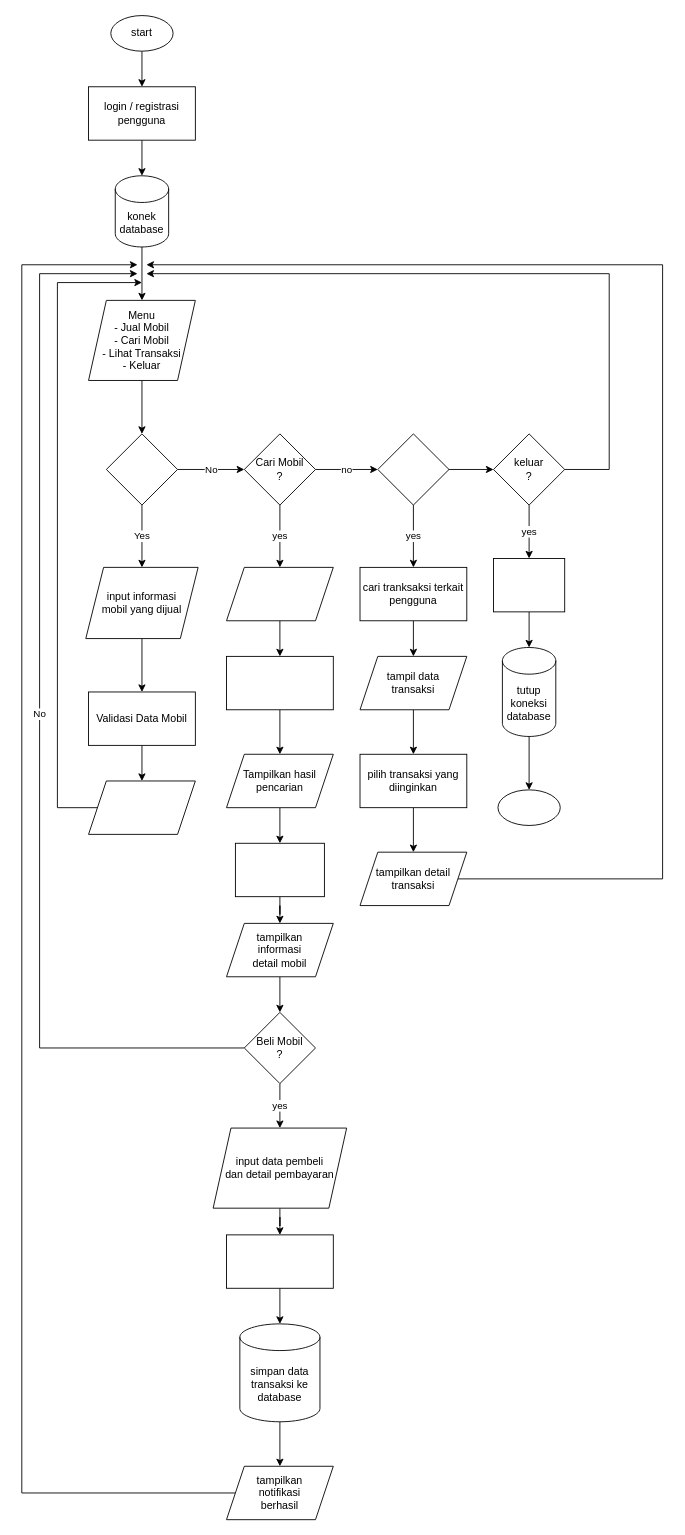
Some shapes in this 685 by 1535 pixel diagram are drawn without their labels. Each missing label, with the centre of its shape:
"cari mobil berdasarkan kriteria" goes at point 279,682.
"end" goes at point 528,807.
"input kriteria mobil" goes at point 279,593.
"Jual Mobil ?" goes at point 141,469.
"lihat transkasi ?" goes at point 413,469.
"logout pengguna" goes at point 529,585.
"pilih mobil yang diiginkan" goes at point 279,869.
"Tampilkan Notifikasi" goes at point 141,807.
"Validasi Data Pembeli dan pembayaran" goes at point 279,1261.
